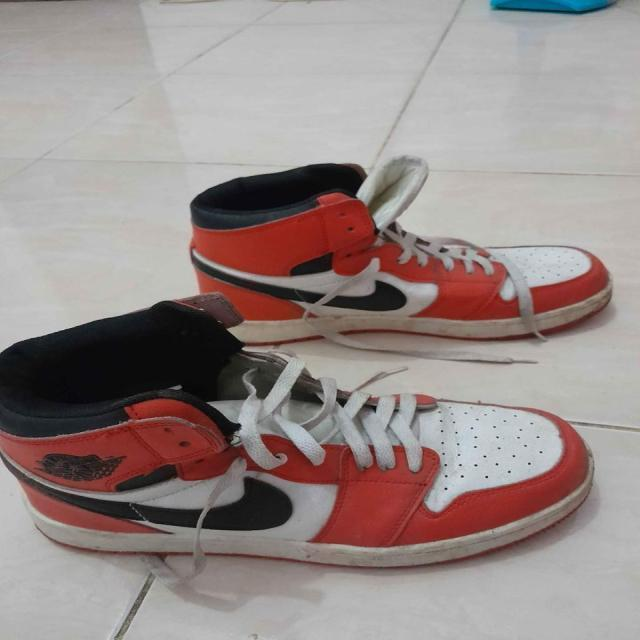nike fake jordan 1: (0, 293, 596, 572), (181, 154, 629, 362)
